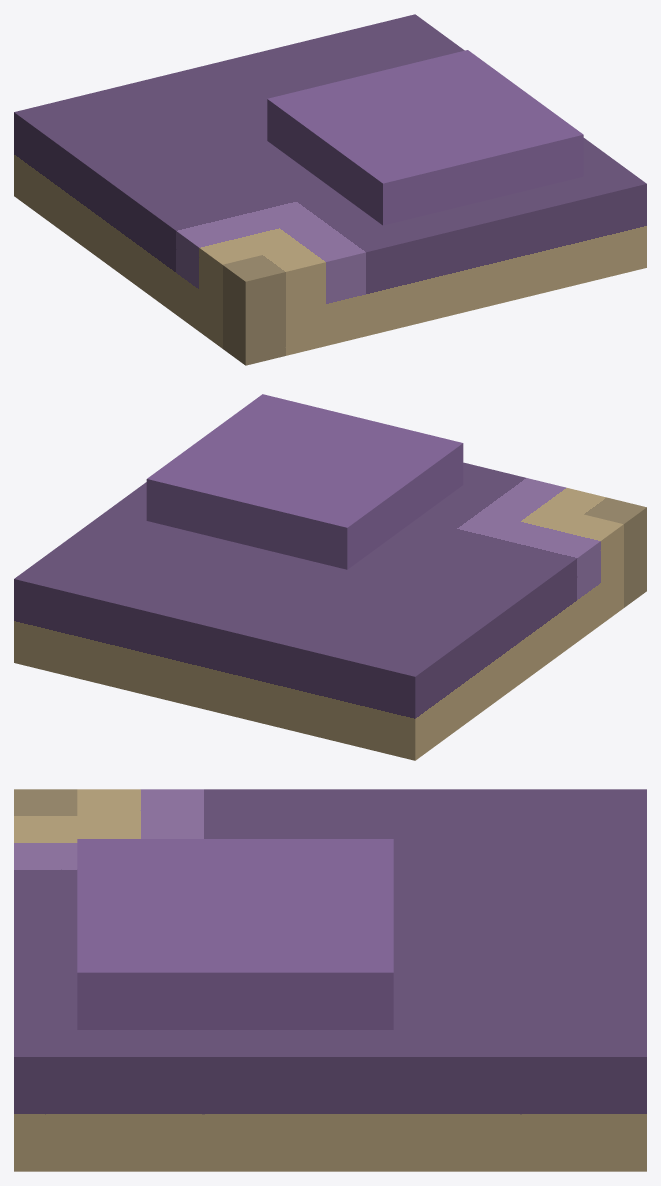
Rendered from Top_4.fbx.
The picture shows the model from 3 angles, top to bottom: view 1: azimuth 30°, elevation 25°; view 2: azimuth 150°, elevation 25°; view 3: azimuth 270°, elevation 25°; orthographic projection. The views are drawn at different scales.
Parts seen in each view (by area): view 1: Top_4; view 2: Top_4; view 3: Top_4.
Part boxes in pixels (x1=…): Top_4: x1=14, y1=14, x2=646, y2=365; Top_4: x1=14, y1=394, x2=646, y2=760; Top_4: x1=14, y1=789, x2=646, y2=1171.
Bounding box in the file's own units: 10 × 3 × 10.
Materials: 1 (1 with a texture image).
